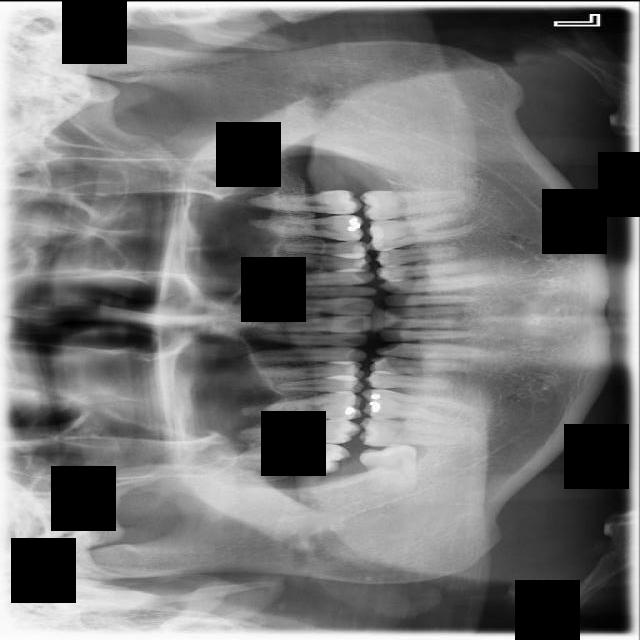3M ESPE Implant: (239, 437, 351, 475)
52: (317, 388, 364, 422), (361, 388, 402, 418), (322, 213, 363, 241)
73: (566, 48, 585, 58)
BioHorizons Implant: (247, 189, 363, 214)
Blue Sky Bio Implant: (359, 188, 471, 221)
Caries: (239, 417, 361, 449)
Implant: (357, 415, 472, 454)
Keystone Dental Implant: (357, 441, 420, 498)
